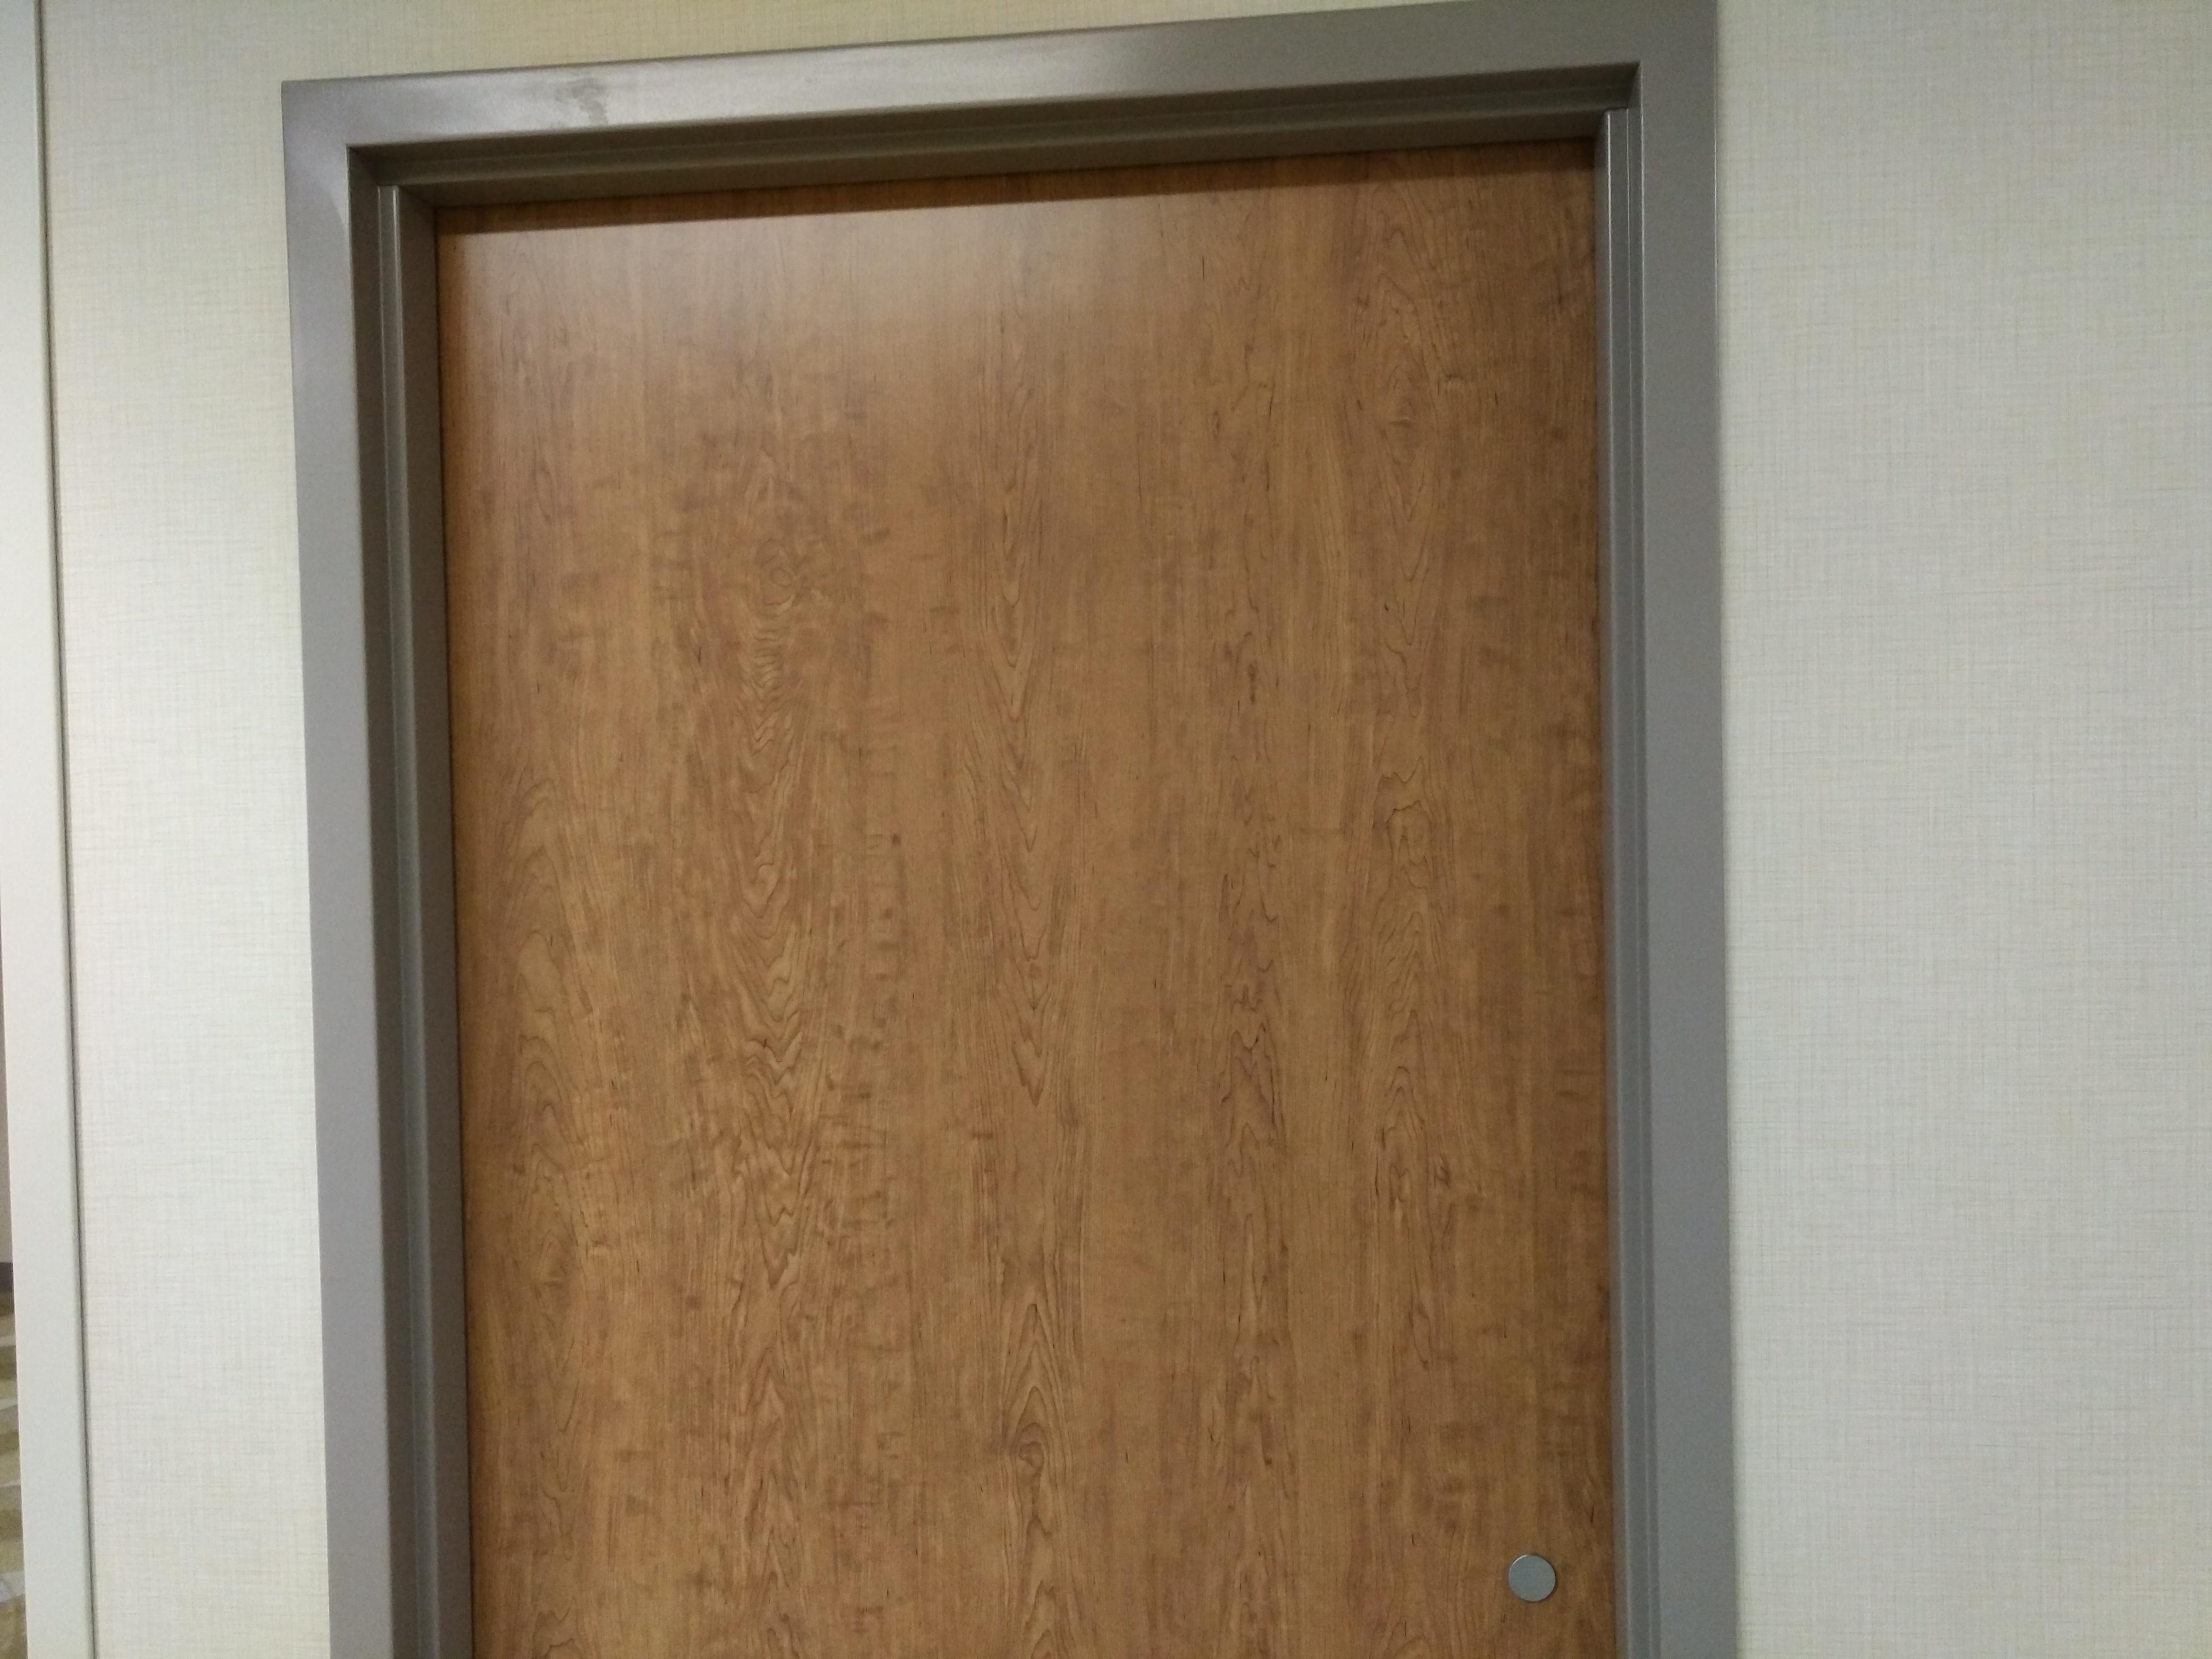door: (359, 139, 1648, 1652)
